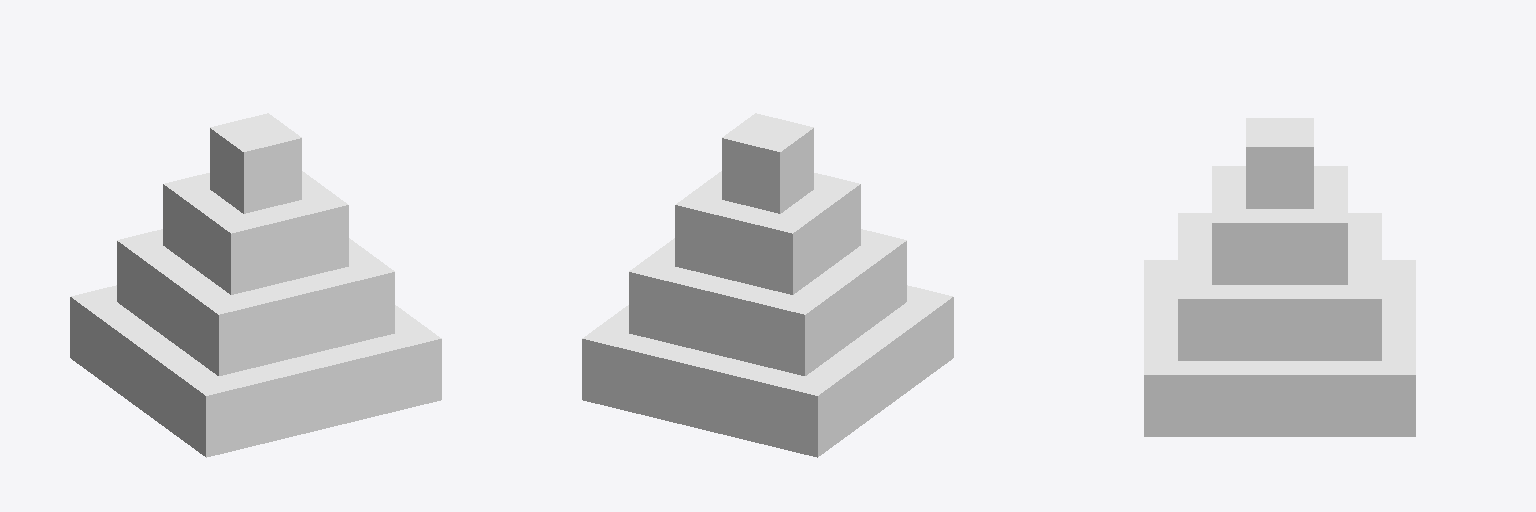
The model's file is WizardHat.obj.
3 renders of one model, left to right at view 1: azimuth 30°, elevation 25°; view 2: azimuth 150°, elevation 25°; view 3: azimuth 270°, elevation 25°, orthographic.
Parts seen in each view (by area): view 1: object 1; view 2: object 1; view 3: object 1.
Boxes of the visible parts, <box> form: object 1: <box>70,113,441,457</box>; object 1: <box>582,113,953,457</box>; object 1: <box>1144,118,1415,436</box>.
Size of the model in its own units: 0.8 by 0.8 by 0.8.